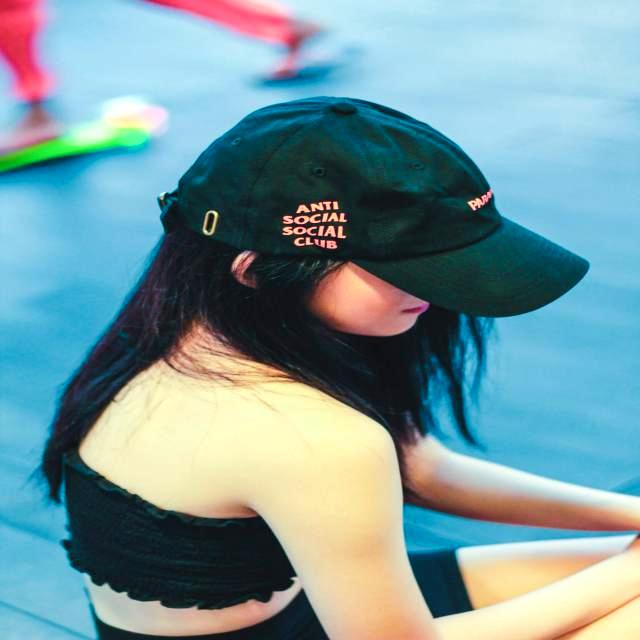no_hard_hat: (174, 98, 581, 316)
person: (42, 97, 640, 640)
